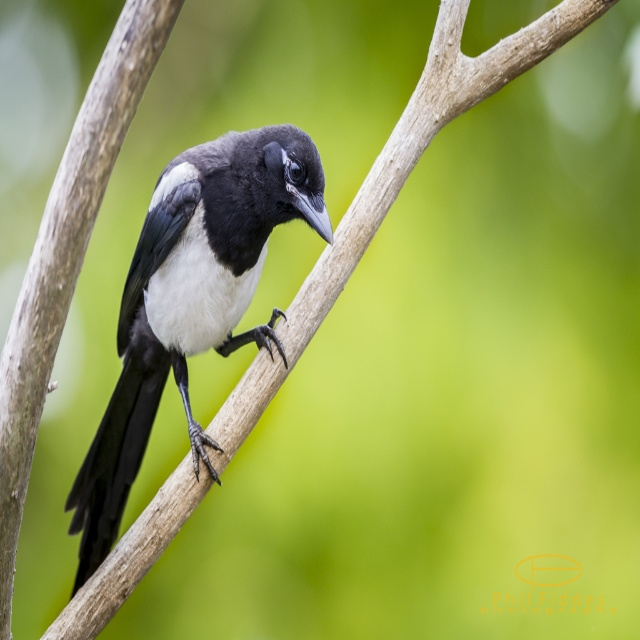Magpie: (64, 123, 333, 602)
